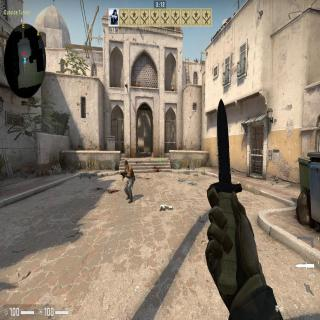T-Body: (122, 160, 135, 203)
T-Head: (124, 160, 128, 168)
